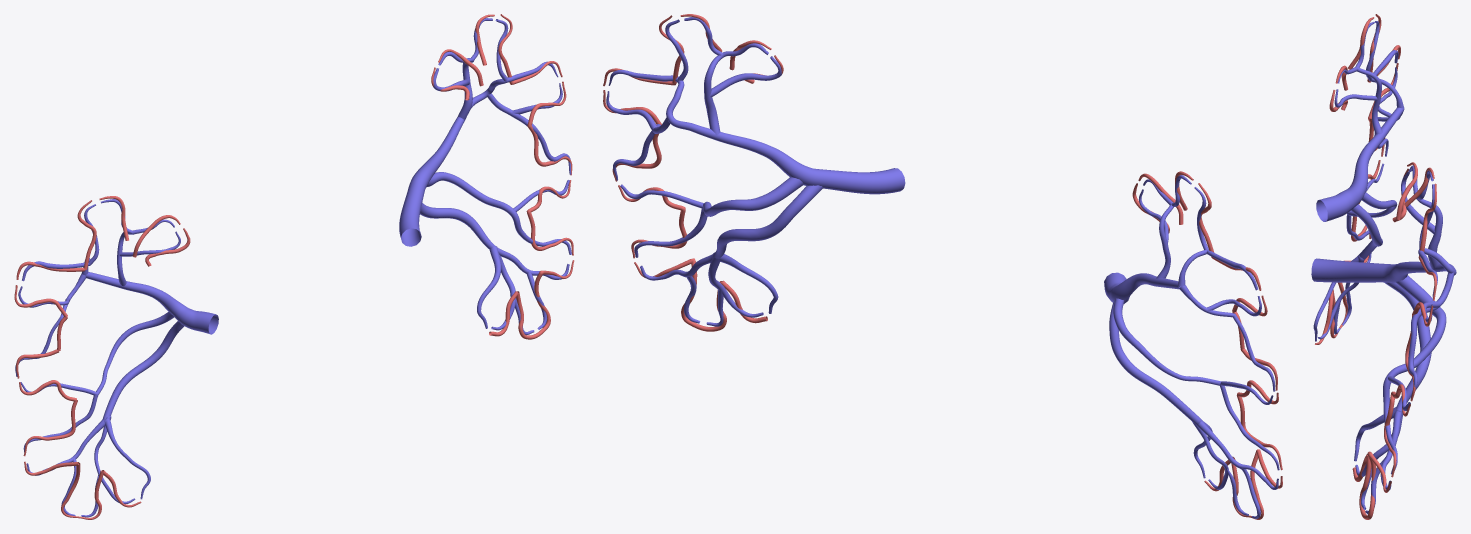
The model's file is cardiovascular.glb.
3 renders of one model, left to right at view 1: azimuth 30°, elevation 25°; view 2: azimuth 150°, elevation 25°; view 3: azimuth 270°, elevation 25°, orthographic. The views are drawn at different scales.
Visible parts, largest first — view 1: Intrarenal veins of left kidney, Intrarenal veins of right kidney, Intrarenal arteries of right kidney, Intrarenal arteries of left kidney; view 2: Intrarenal veins of left kidney, Intrarenal veins of right kidney, Intrarenal arteries of left kidney, Intrarenal arteries of right kidney; view 3: Intrarenal veins of left kidney, Intrarenal veins of right kidney, Intrarenal arteries of left kidney, Intrarenal arteries of right kidney.
Boxes of the visible parts, x1,y1,x2,y2 form: Intrarenal veins of left kidney: (399,18,571,334); Intrarenal veins of right kidney: (15,199,218,517); Intrarenal arteries of right kidney: (14,196,190,519); Intrarenal arteries of left kidney: (431,14,574,339); Intrarenal veins of left kidney: (606,17,905,326); Intrarenal veins of right kidney: (1104,175,1279,518); Intrarenal arteries of left kidney: (603,14,783,331); Intrarenal arteries of right kidney: (1132,171,1282,519); Intrarenal veins of left kidney: (1311,165,1456,514); Intrarenal veins of right kidney: (1313,21,1404,341); Intrarenal arteries of left kidney: (1352,162,1436,519); Intrarenal arteries of right kidney: (1315,14,1400,344).
Bounding box in the file's own units: 0.1554 × 0.095 × 0.0309.
